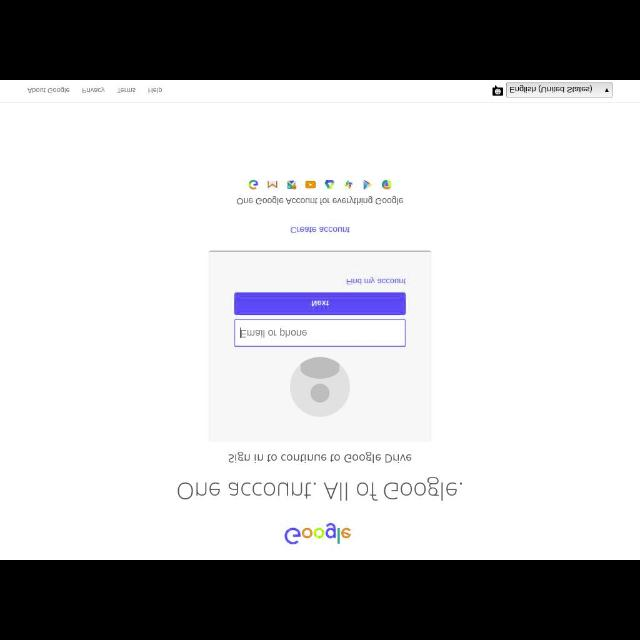icon: (492, 85, 503, 96), (606, 88, 608, 92)
image: (291, 356, 351, 416), (284, 524, 350, 544), (248, 179, 258, 189), (382, 179, 392, 189), (363, 180, 372, 190), (268, 181, 278, 189), (288, 180, 296, 190), (305, 181, 315, 189), (325, 180, 335, 188), (345, 181, 353, 189)
input: (235, 319, 405, 346)
spinner: (508, 83, 612, 97)
text: (178, 476, 462, 500), (228, 451, 412, 463), (237, 196, 403, 204), (240, 328, 308, 338), (510, 85, 592, 93), (347, 277, 407, 285), (290, 226, 350, 234), (28, 86, 70, 94), (82, 87, 106, 93), (148, 86, 162, 94), (118, 87, 136, 93), (312, 300, 328, 306)
textbutton: (235, 293, 405, 315)
